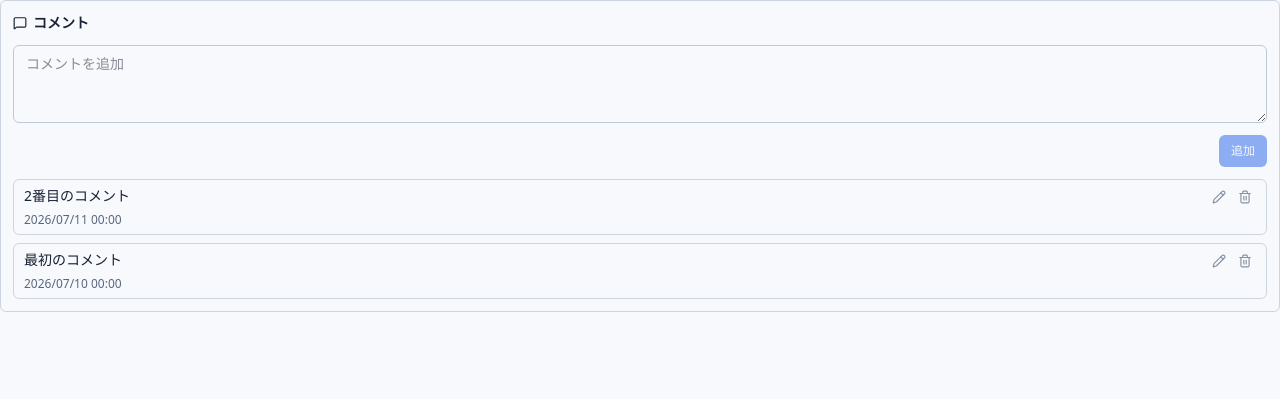
it: TaskComments › 本文をクリックして編集した内容をEscapeでキャンセルする
This screenshot has width=1280, height=399.
Click the button "2番目のコメント" at x=77, y=196, box [24,186,1200,206]
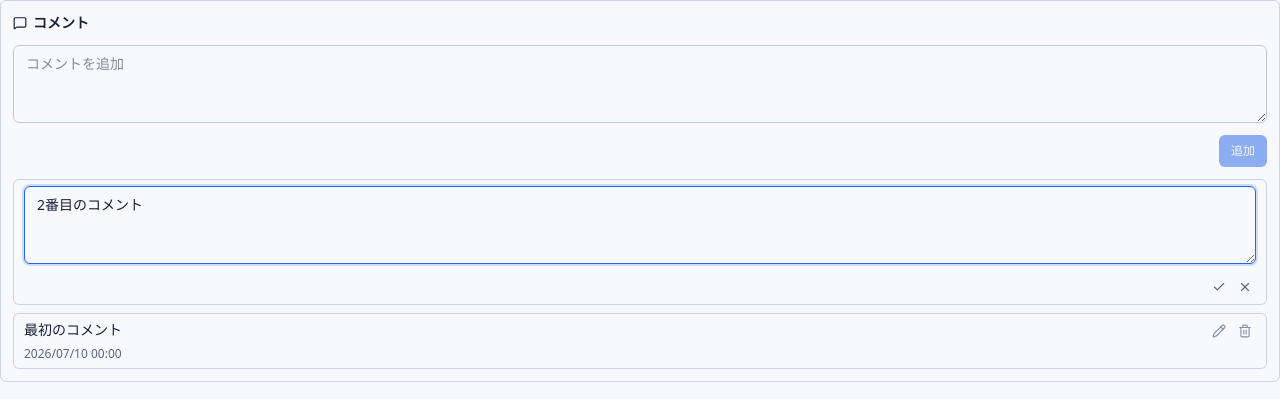
Replace the text in the text box named "コメント本文" with "保存しない変更" at x=640, y=225, box [24,186,1256,264]
Then press Escape
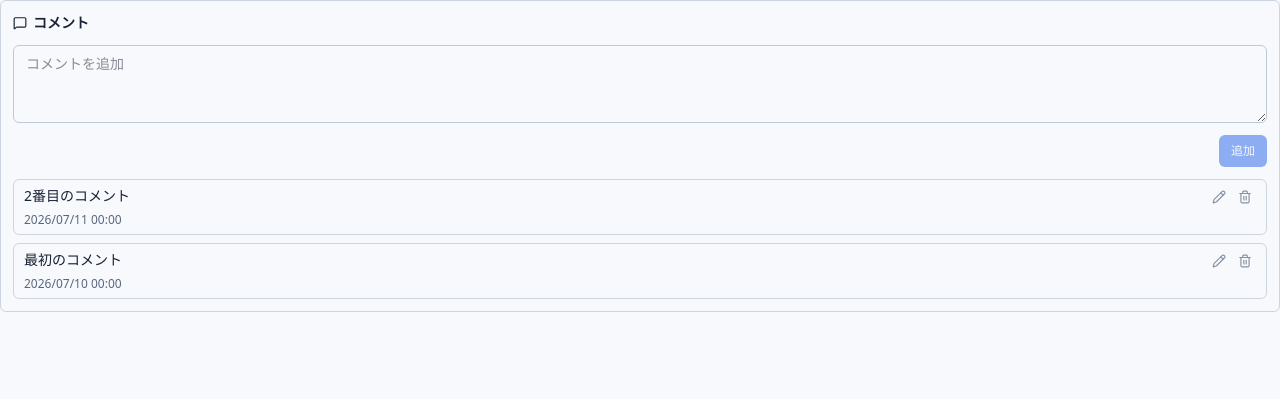
Expected: the field labelled "コメント本文" is not shown
Expected: the button "2番目のコメント" is shown, [24,186,1200,206]
